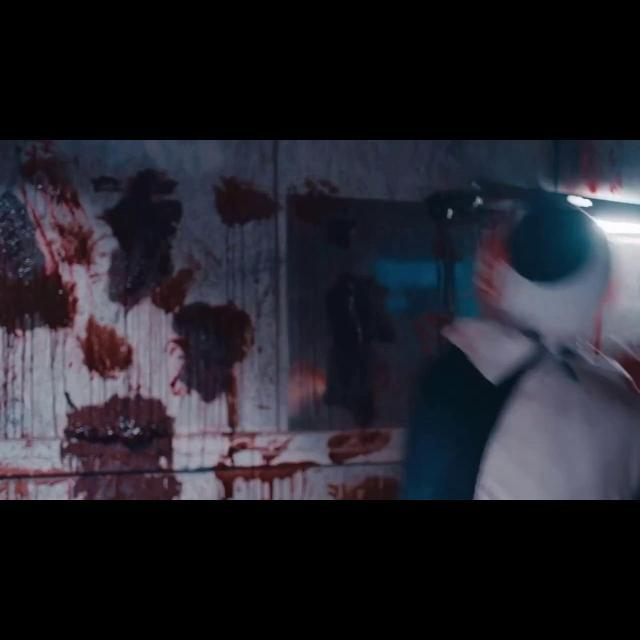blood: (0, 142, 561, 500), (552, 140, 640, 203), (594, 284, 612, 350), (618, 354, 640, 388)
